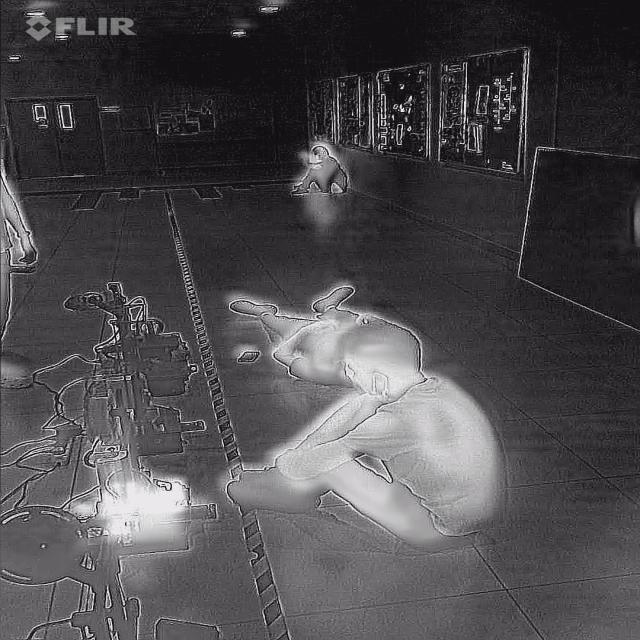Victim: (225, 322, 528, 553), (225, 279, 430, 392), (285, 138, 350, 195)
